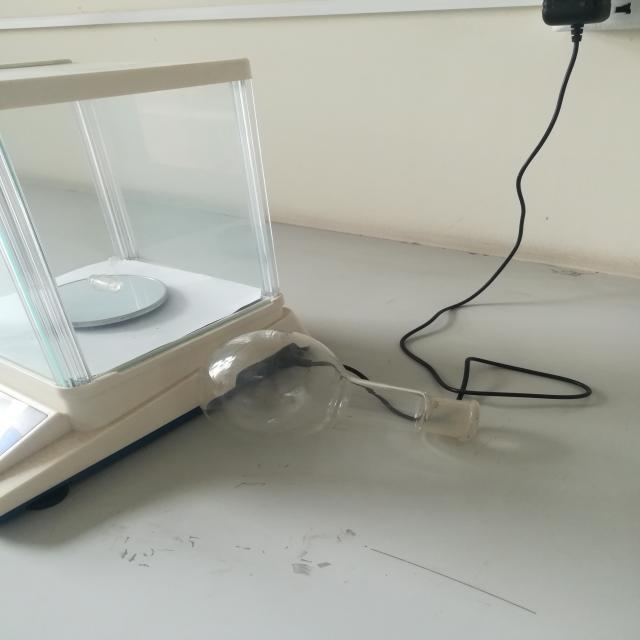Round_Bottom_Flask_Borosilicate_Glass_1_Neck: (172, 250, 508, 501)
